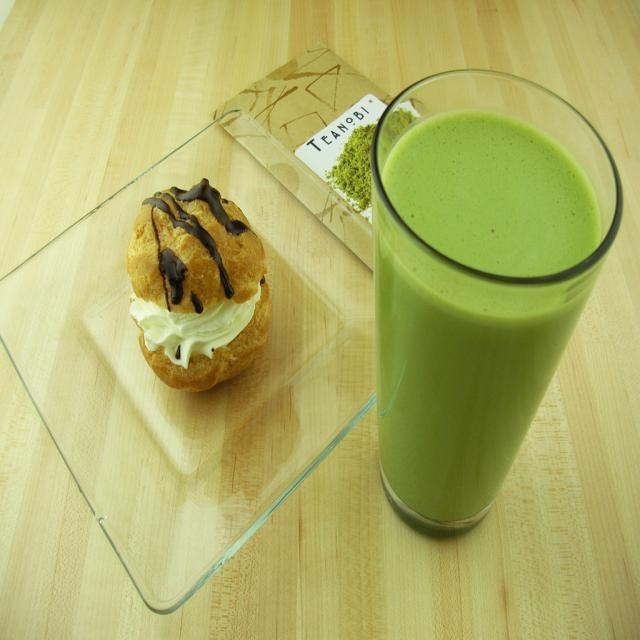Juice: (359, 90, 623, 534)
